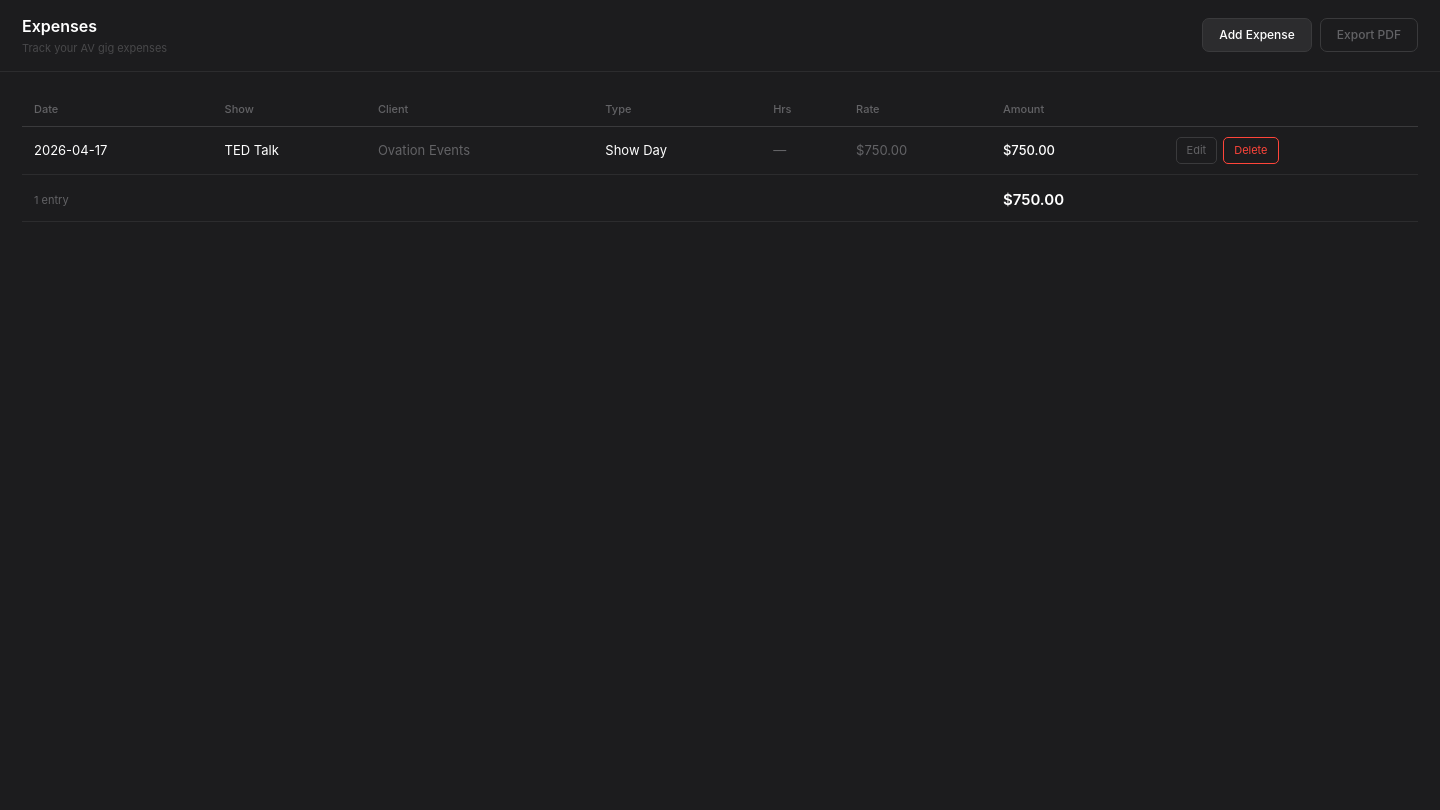
Test case: shows ExpenseForm pre-filled when Edit is clicked
Click the button "Edit" at (1196, 150), box [1176,137,1217,164]
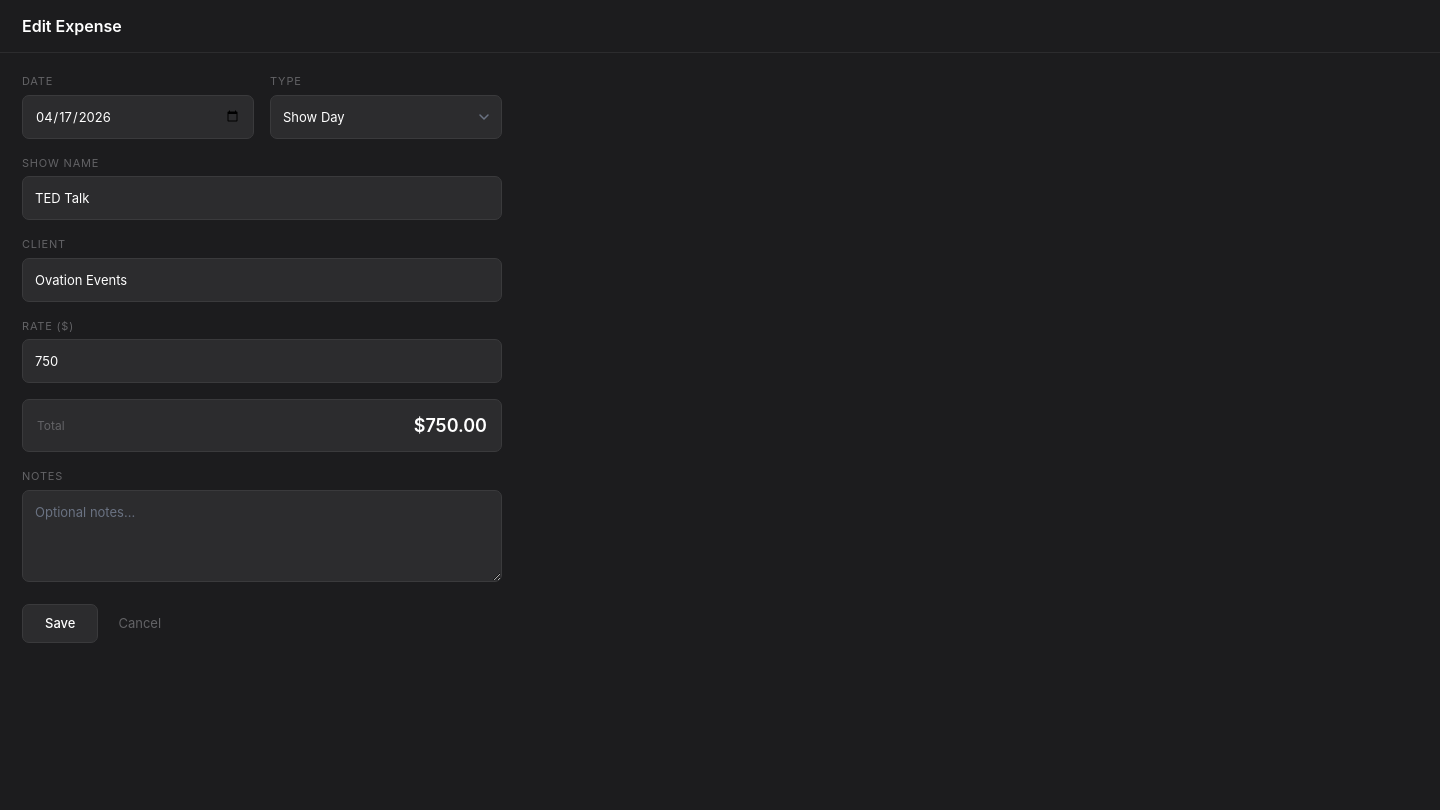
Now the field labelled "Show Name" holds "TED Talk", box [22,176,502,220]
